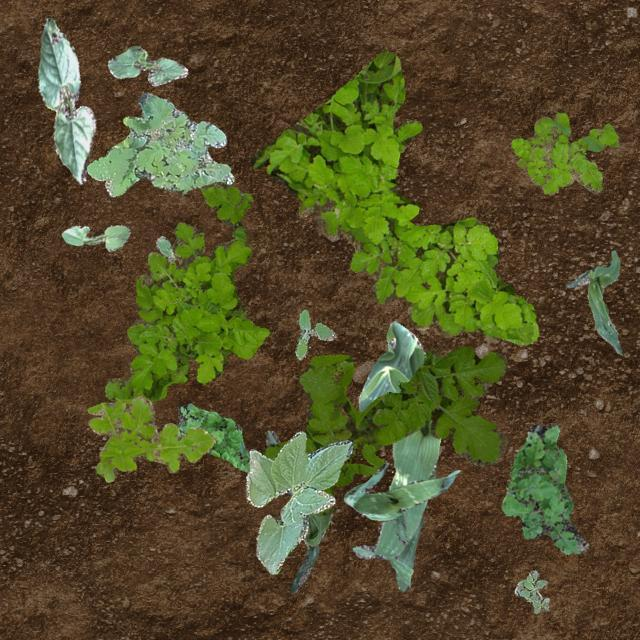crop: (352, 320, 439, 590), (245, 430, 352, 572), (264, 430, 332, 592), (37, 17, 94, 184), (342, 462, 458, 544), (566, 250, 620, 352), (106, 44, 186, 84), (60, 224, 130, 250)
weed: (250, 49, 538, 344), (262, 346, 506, 514), (104, 180, 268, 402), (85, 92, 234, 196), (500, 422, 588, 554), (86, 394, 215, 482), (510, 112, 618, 195), (174, 402, 248, 470), (294, 308, 336, 358), (514, 568, 548, 612), (156, 234, 174, 262)
